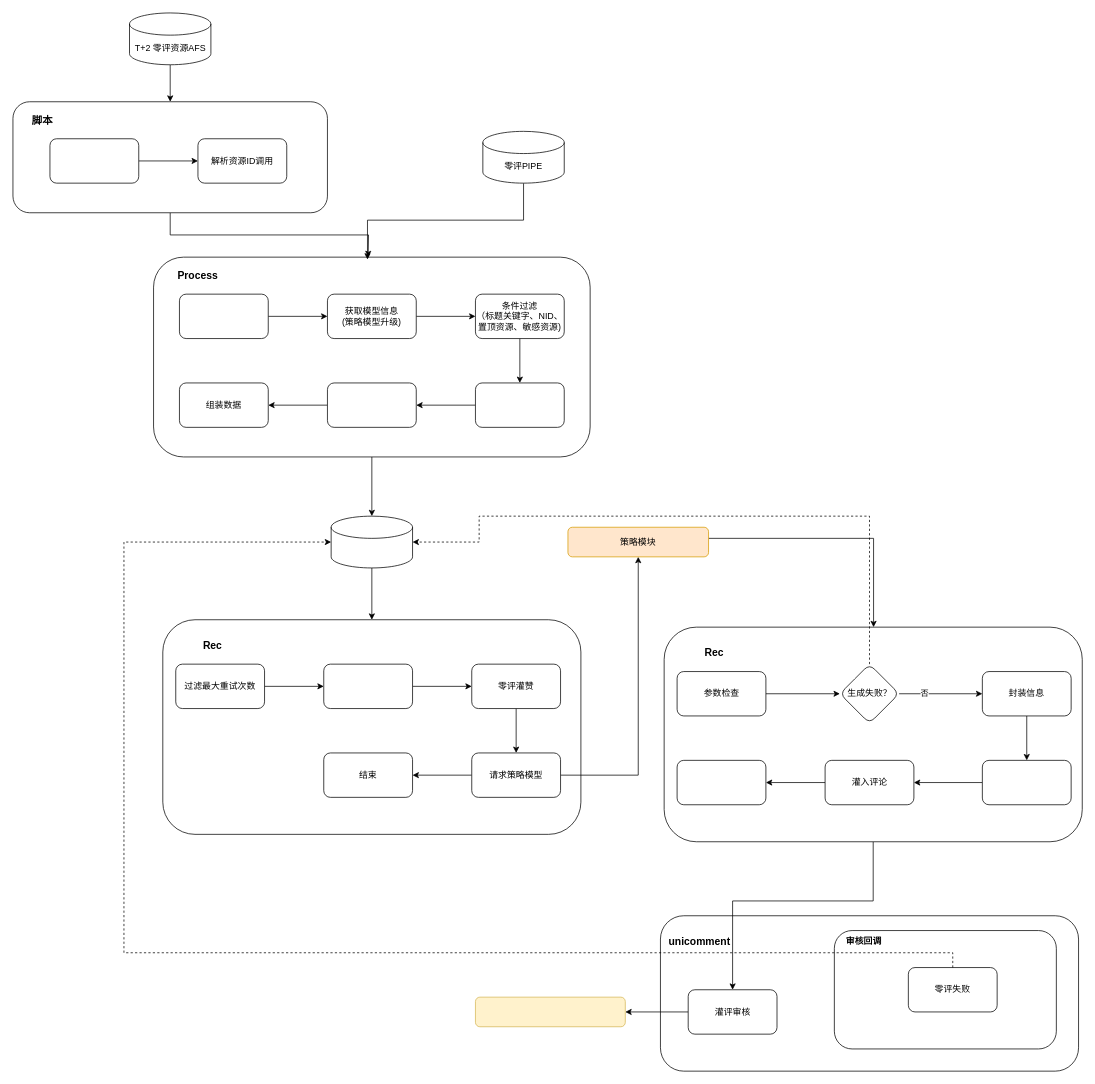
This 1095x1084 diagram has some shape labels left out. The centre of each missing label's shape, as x and y in pixels:
"下拉AFS到本地" belongs at point 94,160.
"审核系统" belongs at point 550,1011.
"检查参数" belongs at point 368,686.
"获取马甲号" belongs at point 1026,782.
"评论区正常判断" belongs at point 371,404.
"过滤敏感资源" belongs at point 223,316.
"过滤评论数>1" belongs at point 519,404.
"零评生成PIPE" belongs at point 371,541.
"马甲号回调" belongs at point 721,782.
